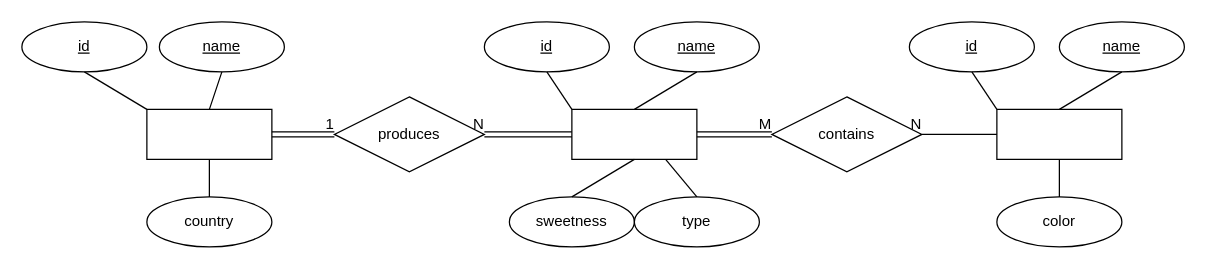
Image size: 1206x269. Some labels were removed from this diagram. The shapes that lost their labels are listed below. From the top down, each one's centre as x and y in pixels, then its label:
the point at 209,133: Winery
the point at 634,133: Wine
the point at 1059,133: Grape Variety
